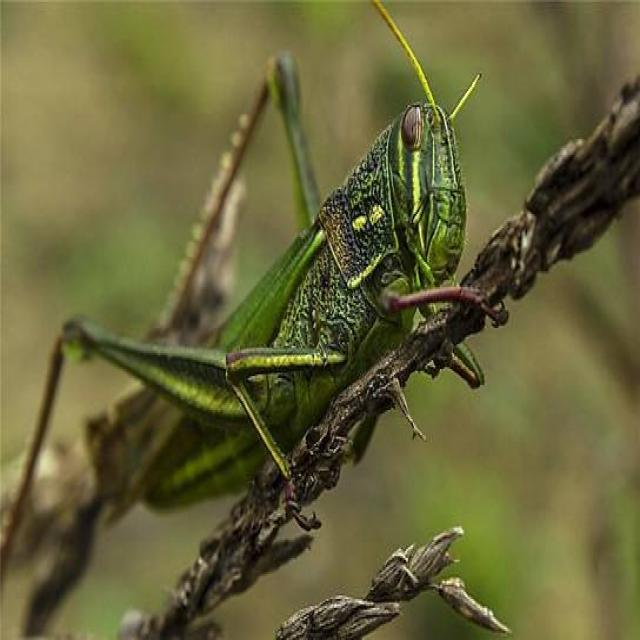ZhaMeng: (48, 39, 487, 523)
